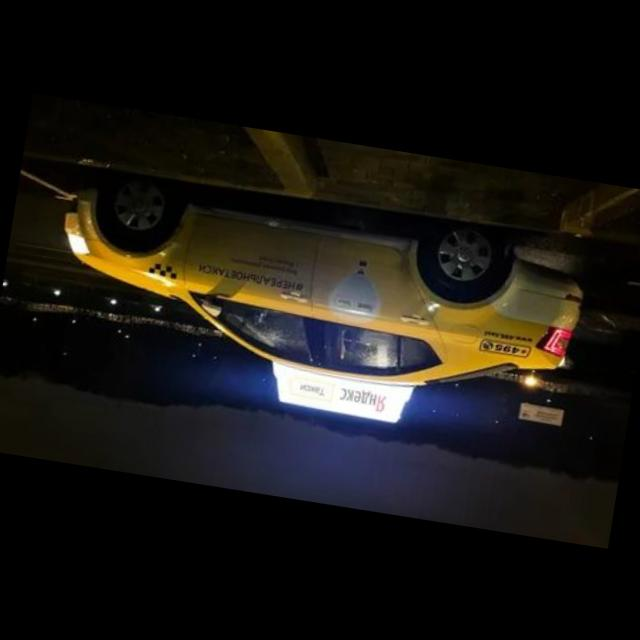taxi: (40, 163, 594, 454)
